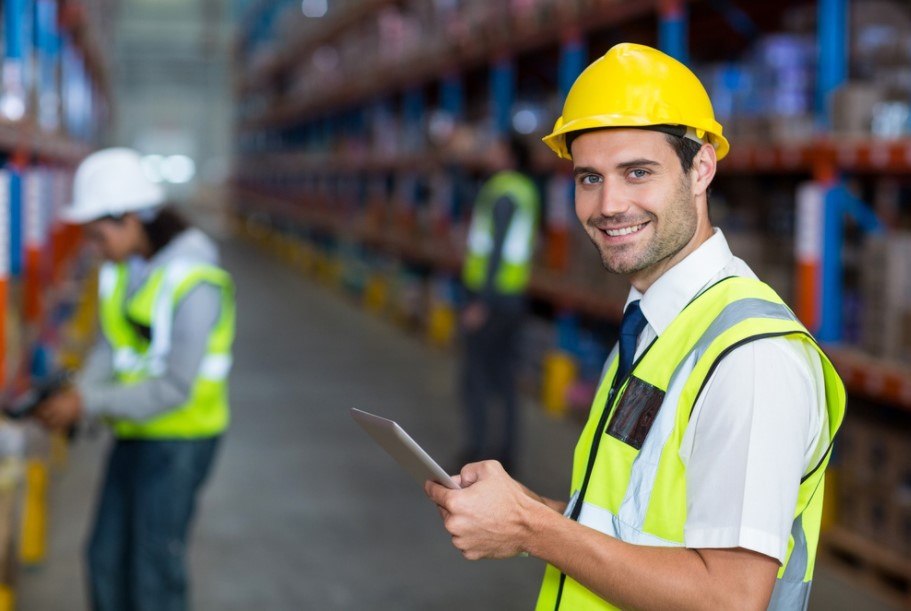worker: (533, 42, 836, 611)
